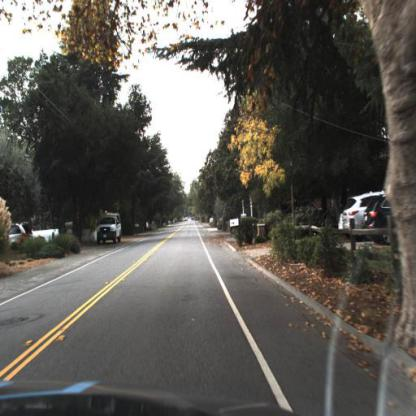car: (342, 190, 383, 237), (2, 219, 37, 256), (96, 209, 124, 247)
